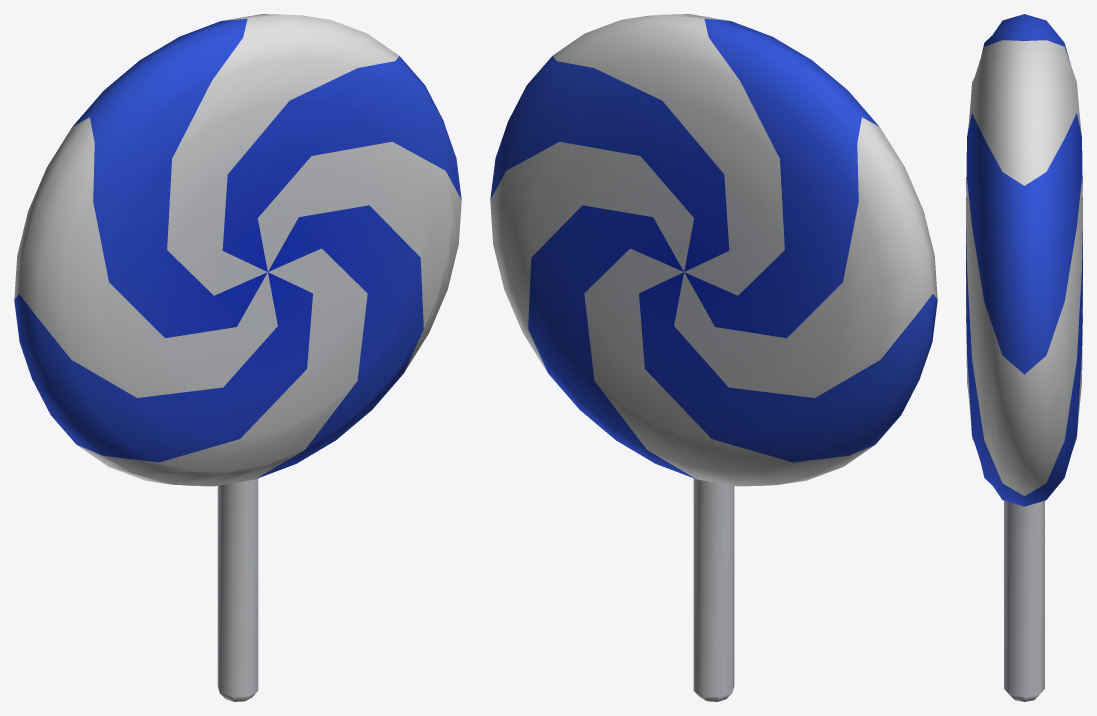
File: lollipop.glb
3 views of the same model, side by side, from view 1: azimuth 30°, elevation 25°; view 2: azimuth 150°, elevation 25°; view 3: azimuth 270°, elevation 25° (orthographic). The views are drawn at different scales.
Visible parts, largest first — view 1: lollipop; view 2: lollipop; view 3: lollipop.
Part boxes in pixels (<box>): lollipop: <box>14,14,461,701</box>; lollipop: <box>490,14,937,701</box>; lollipop: <box>966,14,1082,701</box>.
Bounding box in the file's own units: 0.6788 × 1 × 0.1604.
